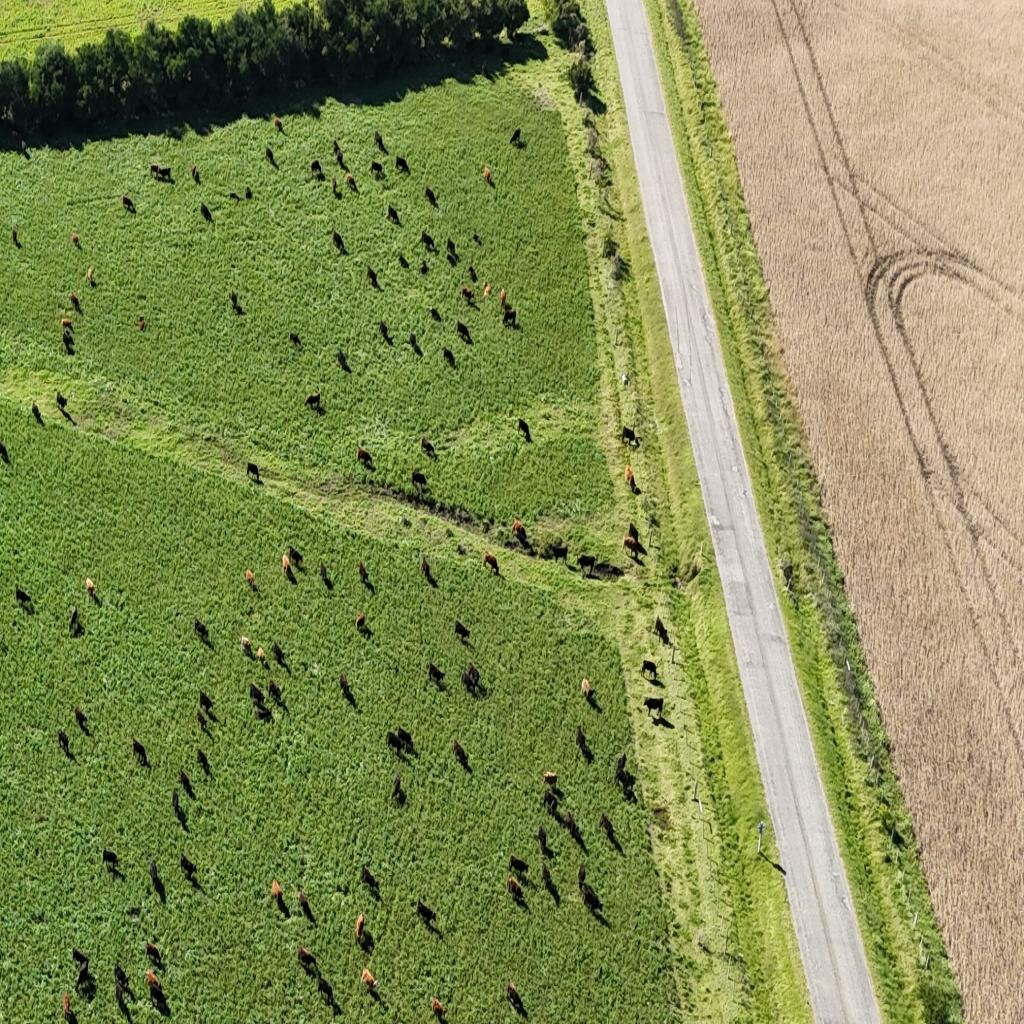cow: (446, 728, 474, 779), (512, 413, 541, 445), (149, 977, 169, 1014), (507, 980, 525, 1014), (582, 885, 602, 914), (60, 319, 76, 355), (316, 974, 334, 1006), (543, 862, 558, 898), (115, 980, 130, 1015), (508, 852, 528, 878), (360, 864, 378, 892), (542, 789, 560, 817), (417, 898, 435, 926), (396, 728, 414, 756), (618, 766, 634, 797), (538, 824, 553, 857), (427, 661, 445, 688), (576, 555, 596, 579), (599, 812, 615, 842), (114, 962, 129, 994), (643, 696, 663, 720), (575, 724, 589, 758), (76, 958, 90, 992), (614, 750, 628, 784), (174, 790, 187, 826), (548, 541, 568, 564), (386, 731, 404, 756), (462, 666, 478, 694), (132, 738, 148, 766), (180, 851, 196, 879), (146, 940, 162, 968), (890, 824, 906, 852), (72, 947, 89, 973), (654, 616, 669, 645), (102, 847, 118, 874), (181, 768, 195, 798), (299, 888, 313, 918), (421, 554, 435, 584), (74, 704, 88, 734), (456, 320, 472, 346), (148, 859, 160, 893), (15, 586, 32, 610), (641, 658, 658, 682), (58, 729, 72, 758), (196, 747, 210, 776), (298, 944, 314, 969), (482, 552, 498, 577), (564, 810, 578, 838), (507, 873, 522, 899), (356, 445, 372, 469), (249, 683, 265, 706), (454, 621, 470, 644), (199, 690, 214, 714), (361, 967, 377, 989), (268, 679, 282, 704), (514, 518, 528, 542), (229, 291, 243, 315), (624, 533, 638, 557), (194, 618, 208, 642), (502, 304, 516, 328), (420, 231, 436, 252), (254, 704, 272, 722), (332, 230, 346, 253), (305, 391, 321, 411), (411, 471, 427, 491), (577, 863, 587, 895), (288, 546, 303, 567), (272, 642, 285, 666), (409, 332, 422, 356), (388, 204, 402, 226), (431, 996, 445, 1018), (146, 973, 161, 993), (68, 606, 79, 633), (172, 790, 181, 822), (420, 436, 434, 456), (392, 773, 402, 801), (395, 156, 409, 176), (246, 462, 260, 482), (367, 267, 379, 290), (32, 403, 44, 426), (543, 770, 558, 788), (622, 427, 636, 446), (374, 130, 386, 152), (425, 186, 437, 208), (628, 522, 639, 546), (443, 346, 455, 368), (271, 878, 282, 902), (625, 460, 635, 486), (70, 292, 82, 313), (200, 202, 212, 223), (358, 560, 368, 585), (461, 285, 474, 304), (337, 349, 349, 369), (345, 172, 357, 192), (378, 321, 390, 341), (197, 710, 207, 734), (370, 161, 384, 178), (509, 128, 522, 146), (86, 576, 96, 599), (56, 392, 68, 411), (240, 636, 252, 655), (0, 440, 9, 465), (158, 166, 172, 182), (61, 317, 77, 331), (356, 912, 364, 940), (282, 553, 292, 575), (446, 236, 456, 258), (581, 678, 591, 700), (311, 160, 323, 178), (446, 250, 458, 268), (256, 646, 266, 667), (245, 568, 255, 589), (498, 287, 508, 307), (340, 672, 350, 692), (332, 140, 342, 160), (335, 150, 345, 170), (63, 992, 70, 1020), (320, 560, 328, 584), (289, 332, 301, 348), (430, 306, 442, 322), (274, 116, 284, 135), (355, 612, 365, 630), (150, 161, 160, 179), (468, 265, 478, 283), (122, 194, 133, 210), (484, 166, 492, 187), (12, 130, 23, 145), (191, 163, 199, 183), (266, 148, 276, 164), (86, 266, 94, 286), (332, 176, 340, 196), (398, 253, 408, 269), (12, 226, 19, 247), (230, 290, 238, 308), (72, 232, 80, 249), (483, 280, 490, 298), (473, 232, 482, 246), (343, 167, 352, 180), (420, 261, 428, 275), (137, 317, 145, 331), (245, 186, 252, 200), (229, 192, 239, 201), (482, 65, 488, 80)
